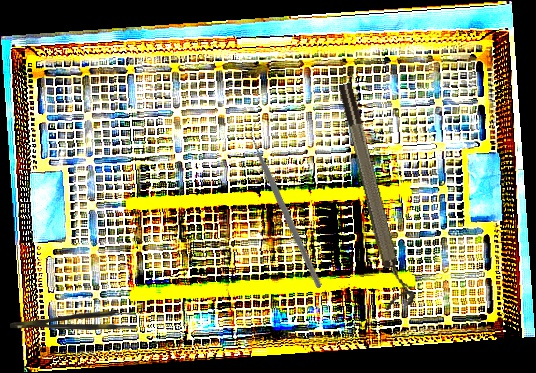Chopper: (198, 120, 378, 289)
Fixation Ring: (334, 79, 417, 311)
Tissue Forceps: (10, 311, 136, 330)
